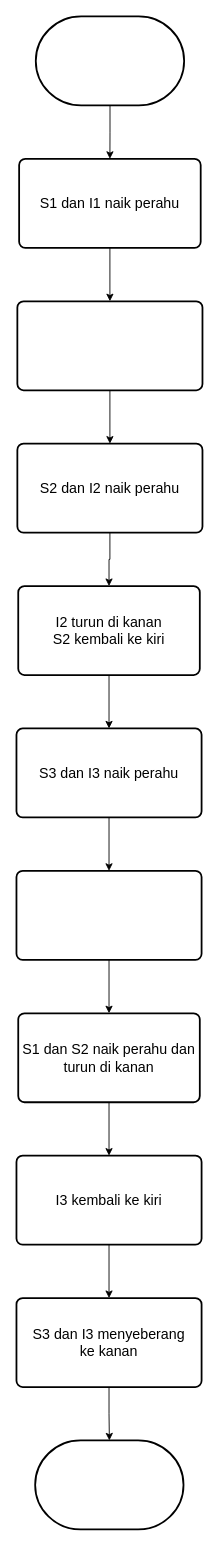
Some shapes in this 218 by 1545 pixel diagram are drawn without their labels. Here are the shapes that lost their labels. From the top down, the centre of each, then its label:
pixel 109 60: Mulai
pixel 109 345: I1 turun di kanan S1 kembali ke kiri
pixel 108 915: I3 turun di kanan S3 kembali ke kiri
pixel 109 1484: Selesai
